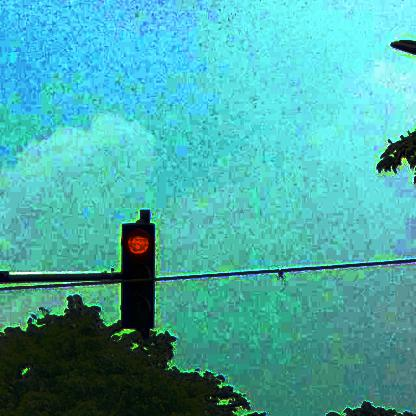Traffic Light -Red-: (122, 223, 154, 329)
